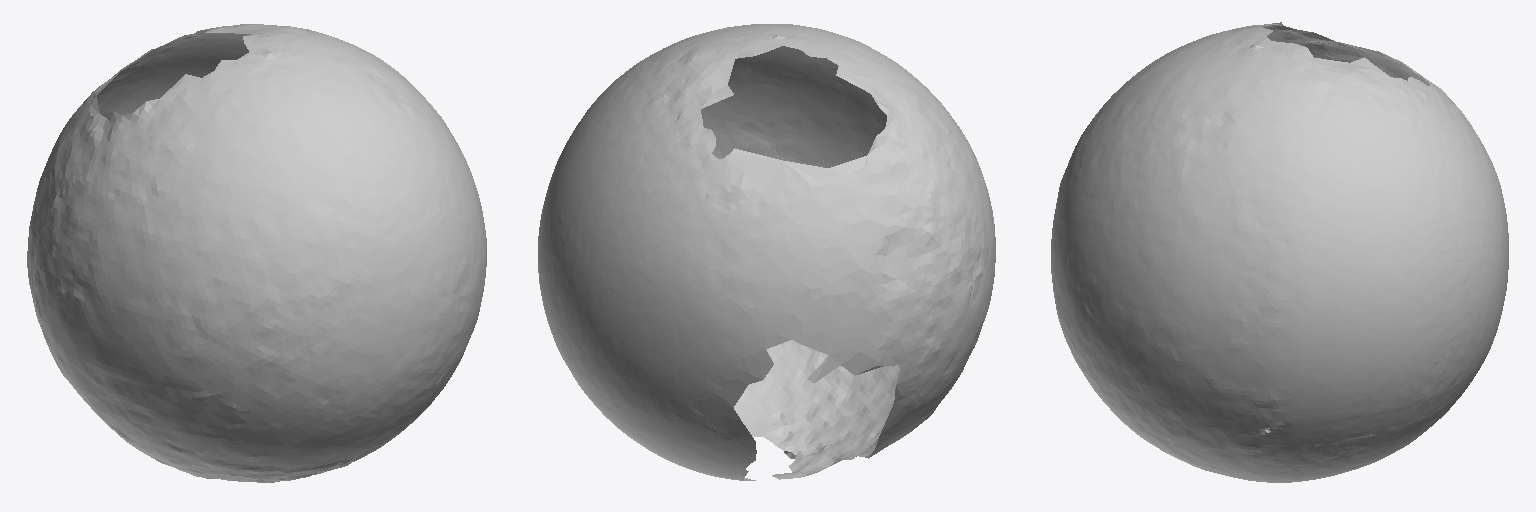
The model's file is Gridtest_2_2_0.000001.obj.
3 views of the same model, side by side, from view 1: azimuth 30°, elevation 25°; view 2: azimuth 150°, elevation 25°; view 3: azimuth 270°, elevation 25° (orthographic).
Size of the model in its own units: 300 by 304 by 298.